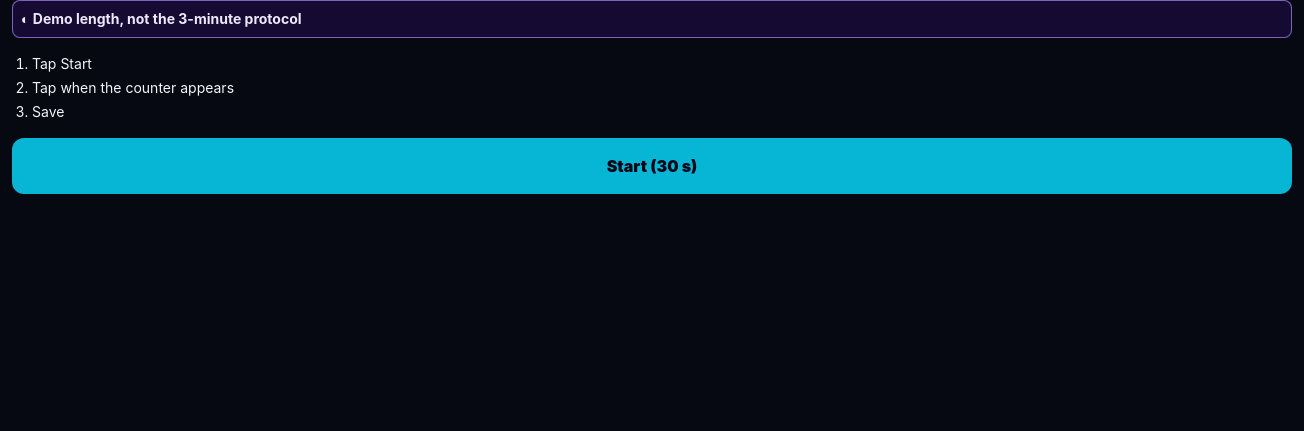
Test: T-2 PvtTest screen › labels the short mode, scores taps and saves mean RT, lapses and false starts
The image size is (1304, 431).
Later steps or results of the test are not shown.
Expected: the text with test id "pvt-short-note" shows "Demo length, not the 3-minute protocol", [33,10,302,27]
Click the button with test id "pvt-start".
click(652, 166)  # box [12,138,1292,194]
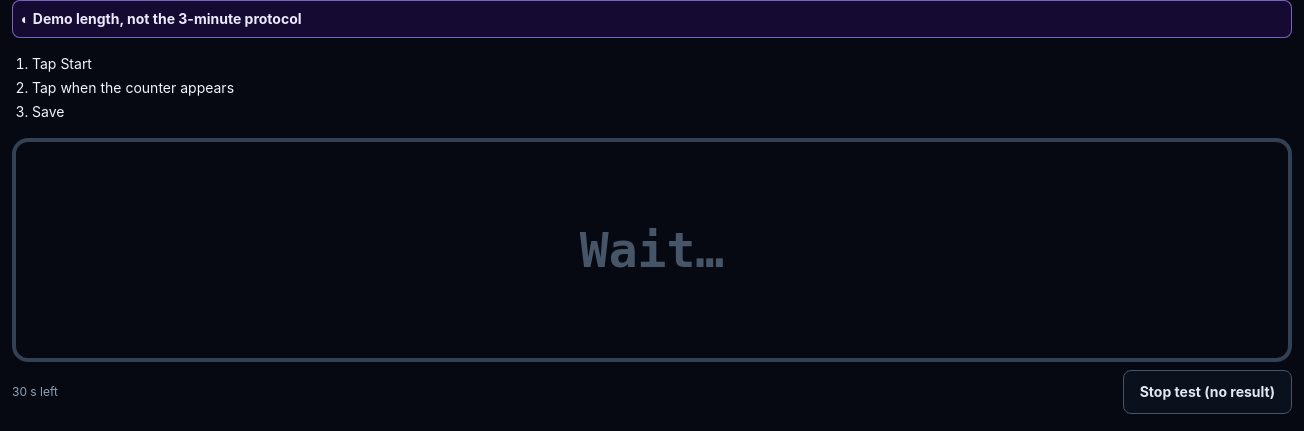
Press the mouse on the button with test id "pvt-target" at x=652, y=250, box [12,138,1292,362]
Wait 1300 ms
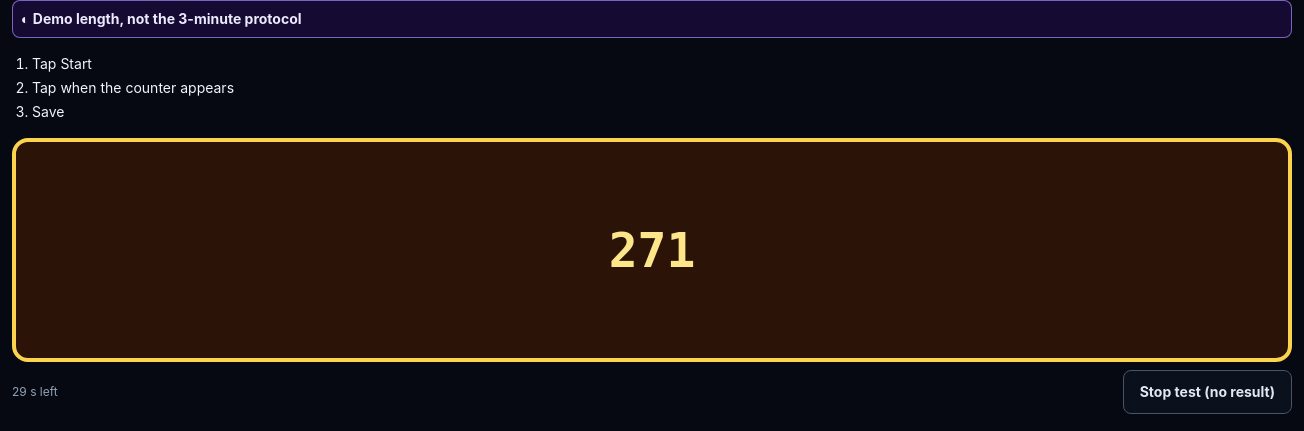
Press the mouse on the button with test id "pvt-target" at x=652, y=250, box [12,138,1292,362]
Wait 1400 ms
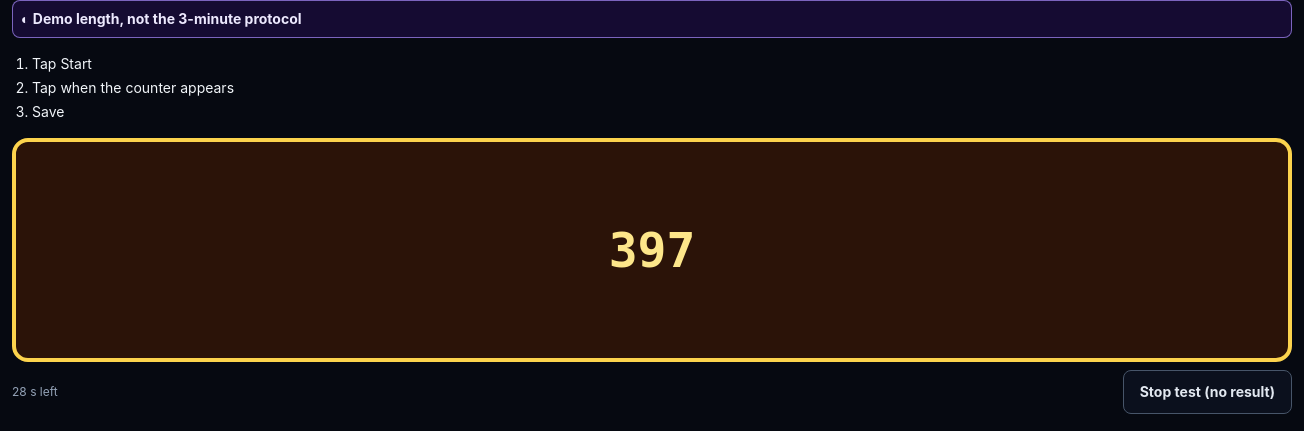
Press Space
Wait 30000 ms
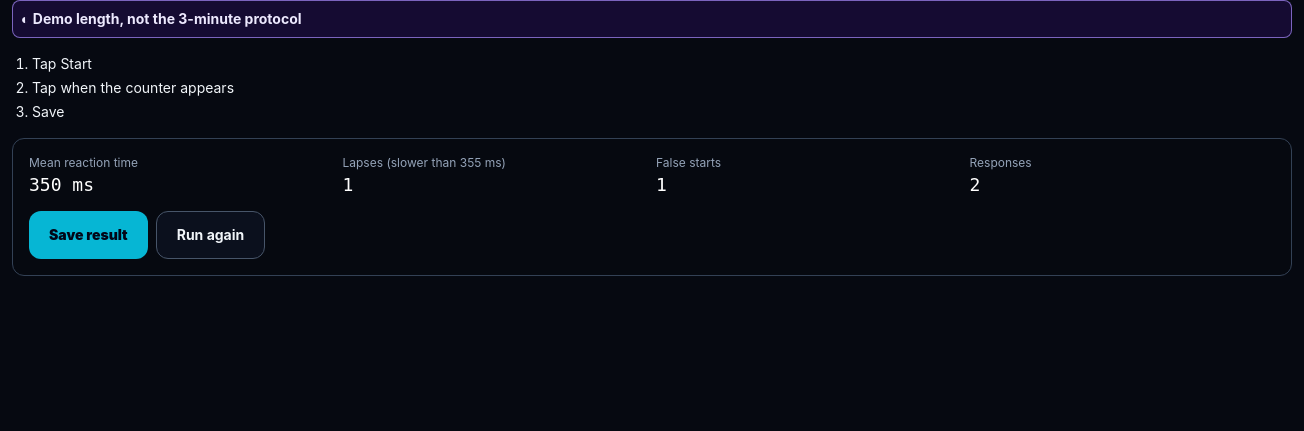
Expected: the element with test id "pvt-summary" shows "350 ms", [12,138,1292,276]
